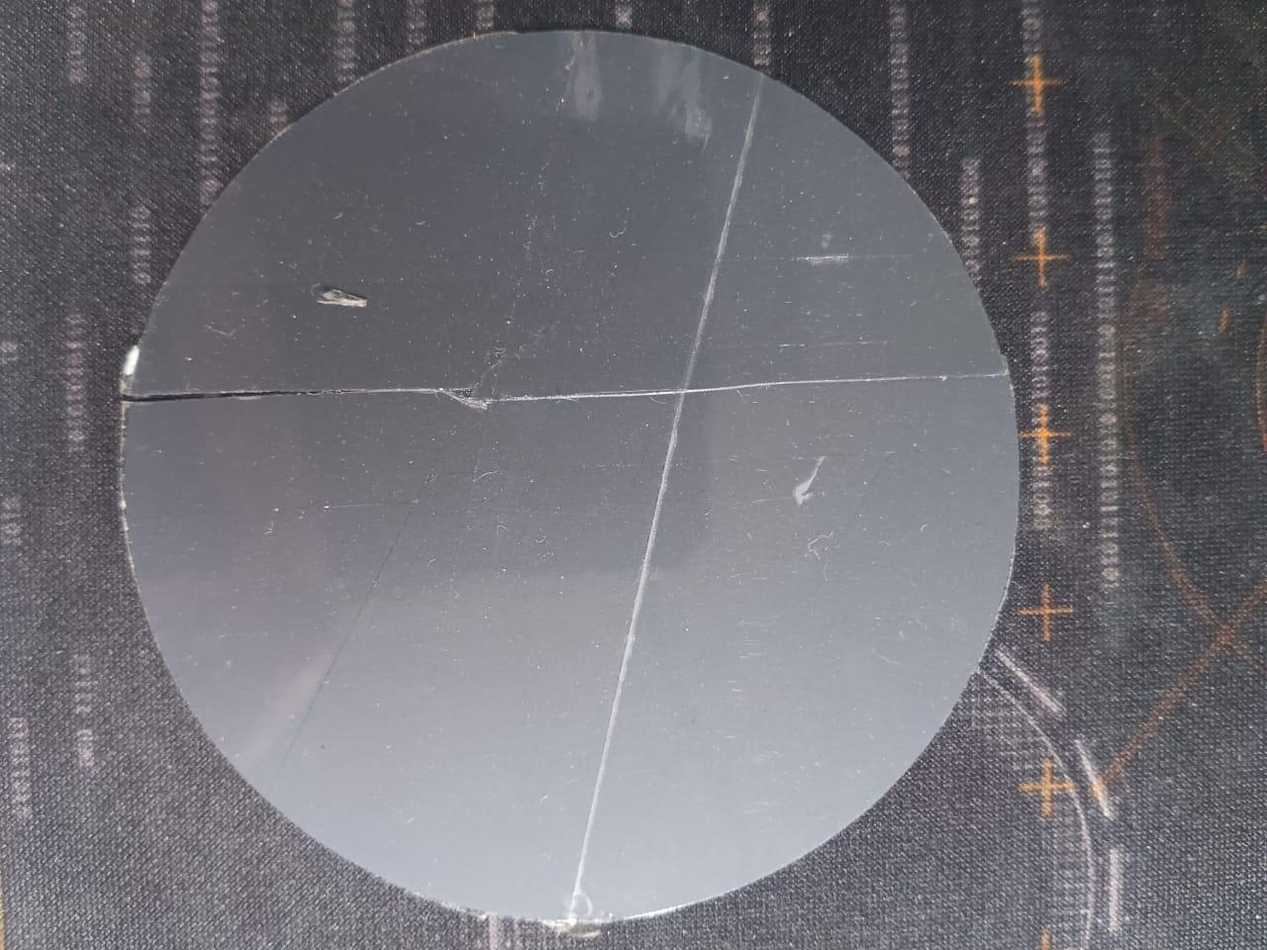crack: (548, 68, 774, 925), (107, 358, 1009, 429)
scratch: (785, 446, 834, 520), (309, 270, 371, 322), (789, 233, 861, 274)
